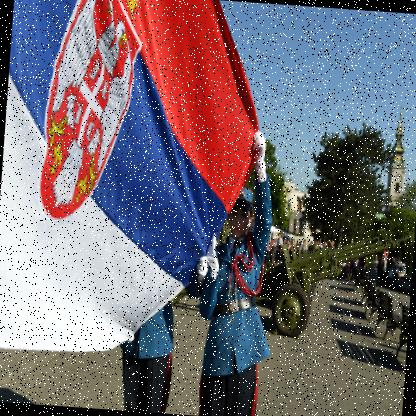rs: (1, 1, 270, 367)
